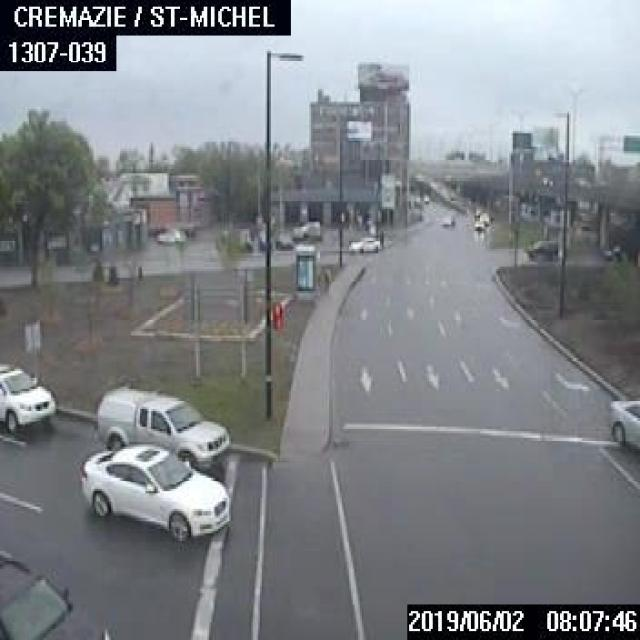vehicle: (78, 443, 231, 540), (94, 386, 228, 472), (0, 549, 109, 638), (0, 360, 56, 431), (606, 393, 638, 451), (524, 238, 560, 260), (347, 234, 380, 254), (155, 226, 184, 242), (602, 243, 628, 259), (441, 212, 454, 226), (478, 211, 490, 223), (473, 218, 484, 228)
